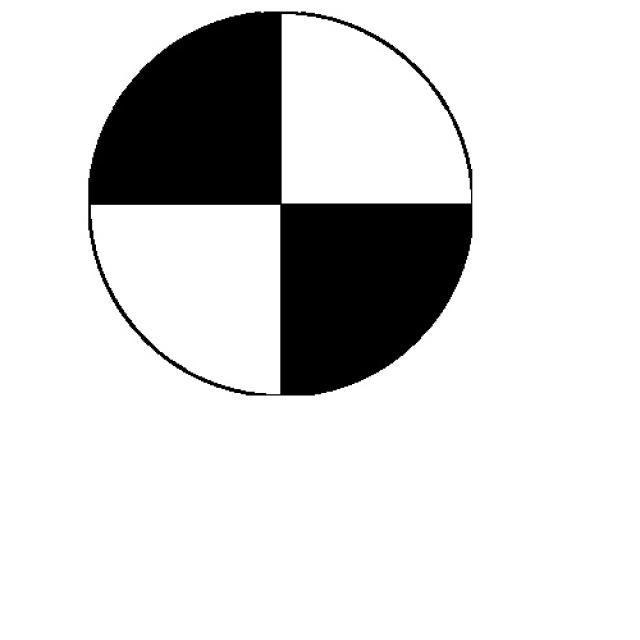Marcadores: (89, 11, 472, 396)
